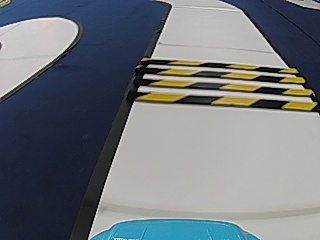bump: (132, 54, 316, 119)
